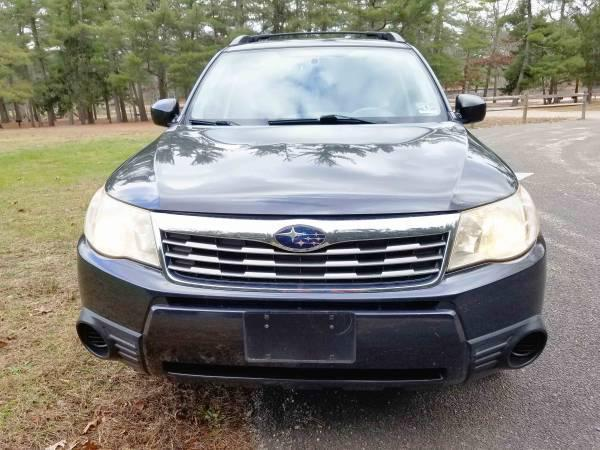Front_Bumper: (76, 234, 550, 383)
Front_Windshield: (179, 41, 452, 126)
Grille: (150, 206, 463, 284)
Hood: (106, 121, 515, 215)
Left_Headlight: (442, 180, 537, 271)
Left_Mirror: (455, 93, 488, 125)
Right_Headlight: (80, 184, 161, 268)
Right_Mirror: (150, 98, 180, 130)
